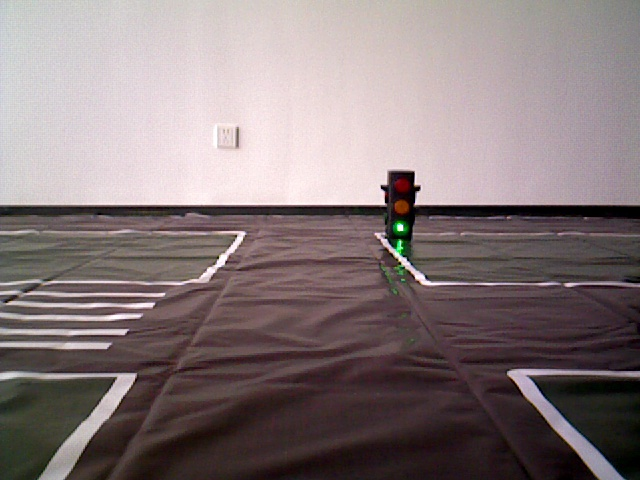green: (387, 174, 413, 237)
